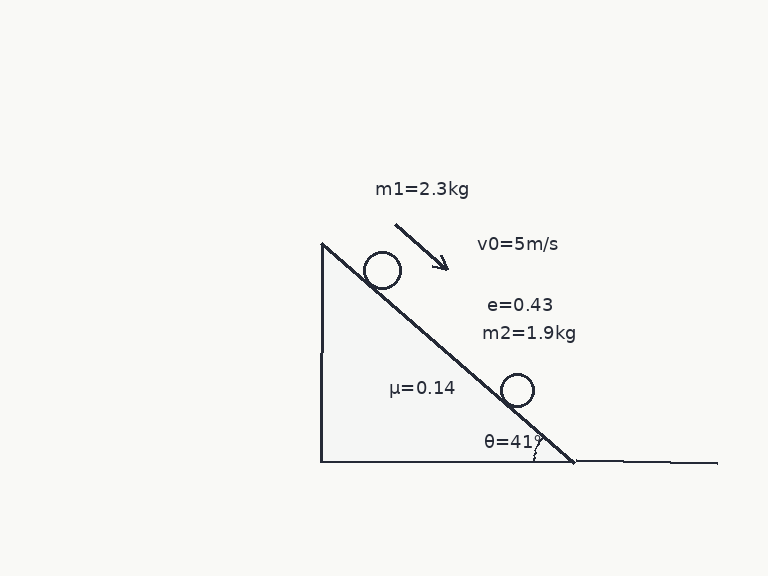ball: (361, 249, 403, 291), (498, 371, 536, 409)
ramp: (321, 242, 576, 464)
